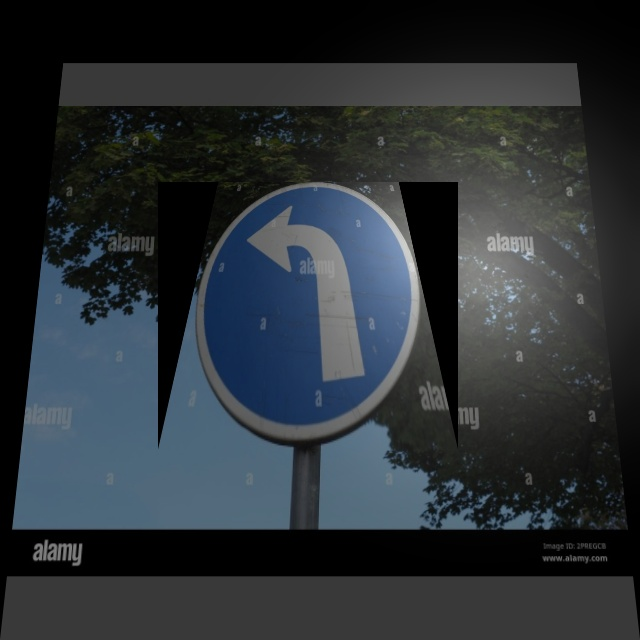Compulsory_Turn_Left_Ahead: (158, 182, 458, 450)
